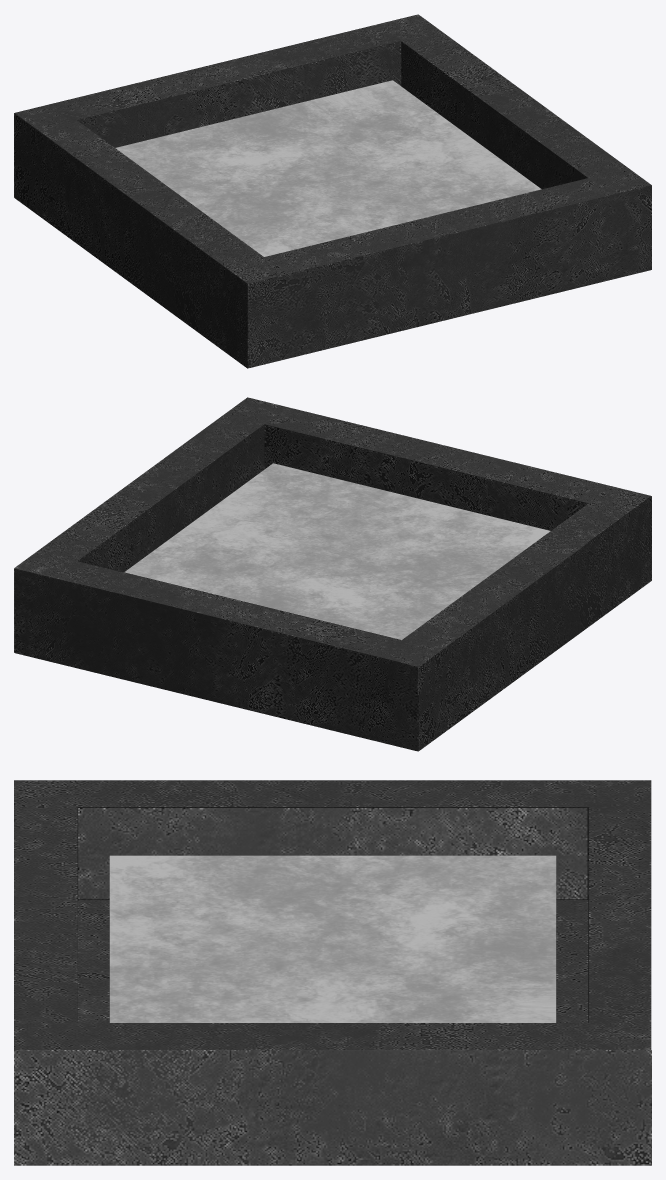
Rendered from Ceiling_Lights.fbx.
3 views of the same model, one above another, from view 1: azimuth 30°, elevation 25°; view 2: azimuth 150°, elevation 25°; view 3: azimuth 270°, elevation 25° (orthographic). The views are drawn at different scales.
Visible parts, largest first — view 1: Ceiling_Light; view 2: Ceiling_Light; view 3: Ceiling_Light.
Part boxes in pixels (x1,y1,x2,y2): Ceiling_Light: (14, 14, 651, 368); Ceiling_Light: (14, 397, 651, 751); Ceiling_Light: (14, 780, 651, 1165).
Size of the model in its own units: 1000 by 200 by 1000.
1 material, 1 textured.
